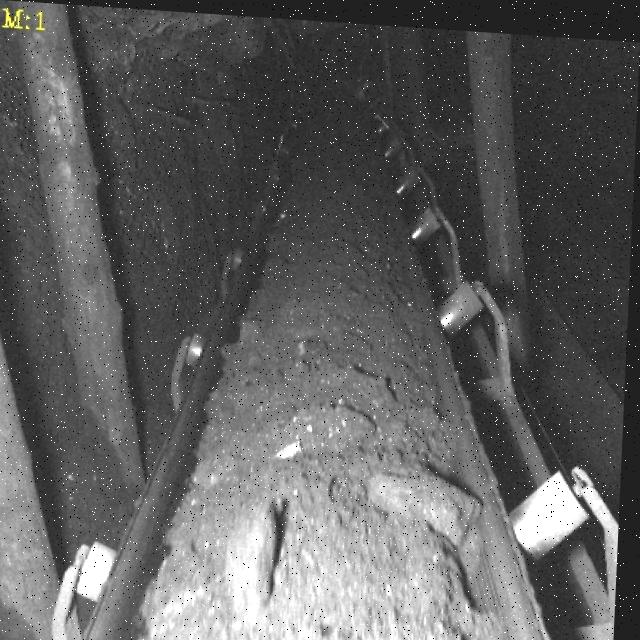large_sized_coal: (368, 457, 488, 531), (230, 492, 295, 609), (278, 400, 380, 457)
